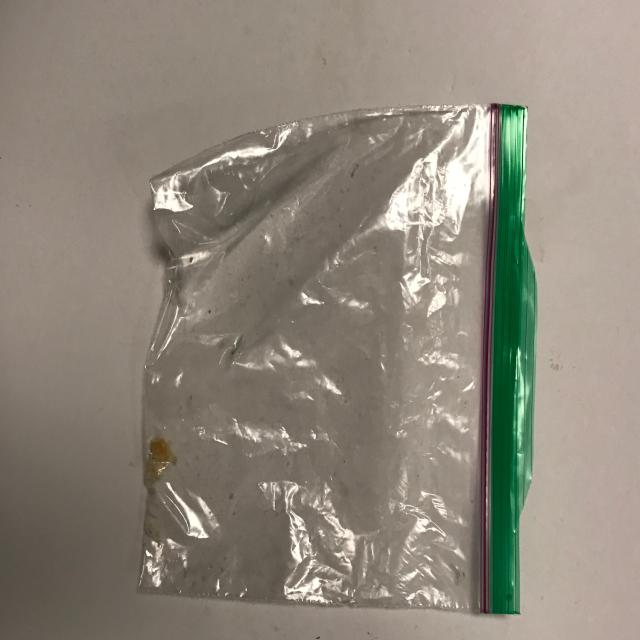trash: (136, 103, 536, 615)
